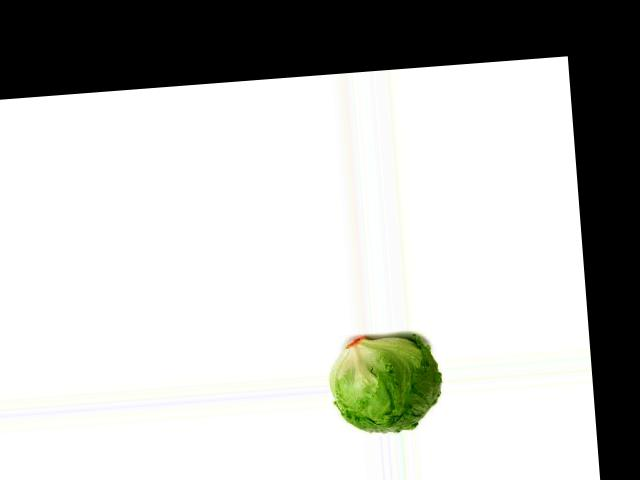lettuce: (333, 333, 444, 436)
